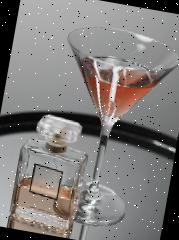glass: (33, 18, 179, 239), (0, 104, 96, 237)
